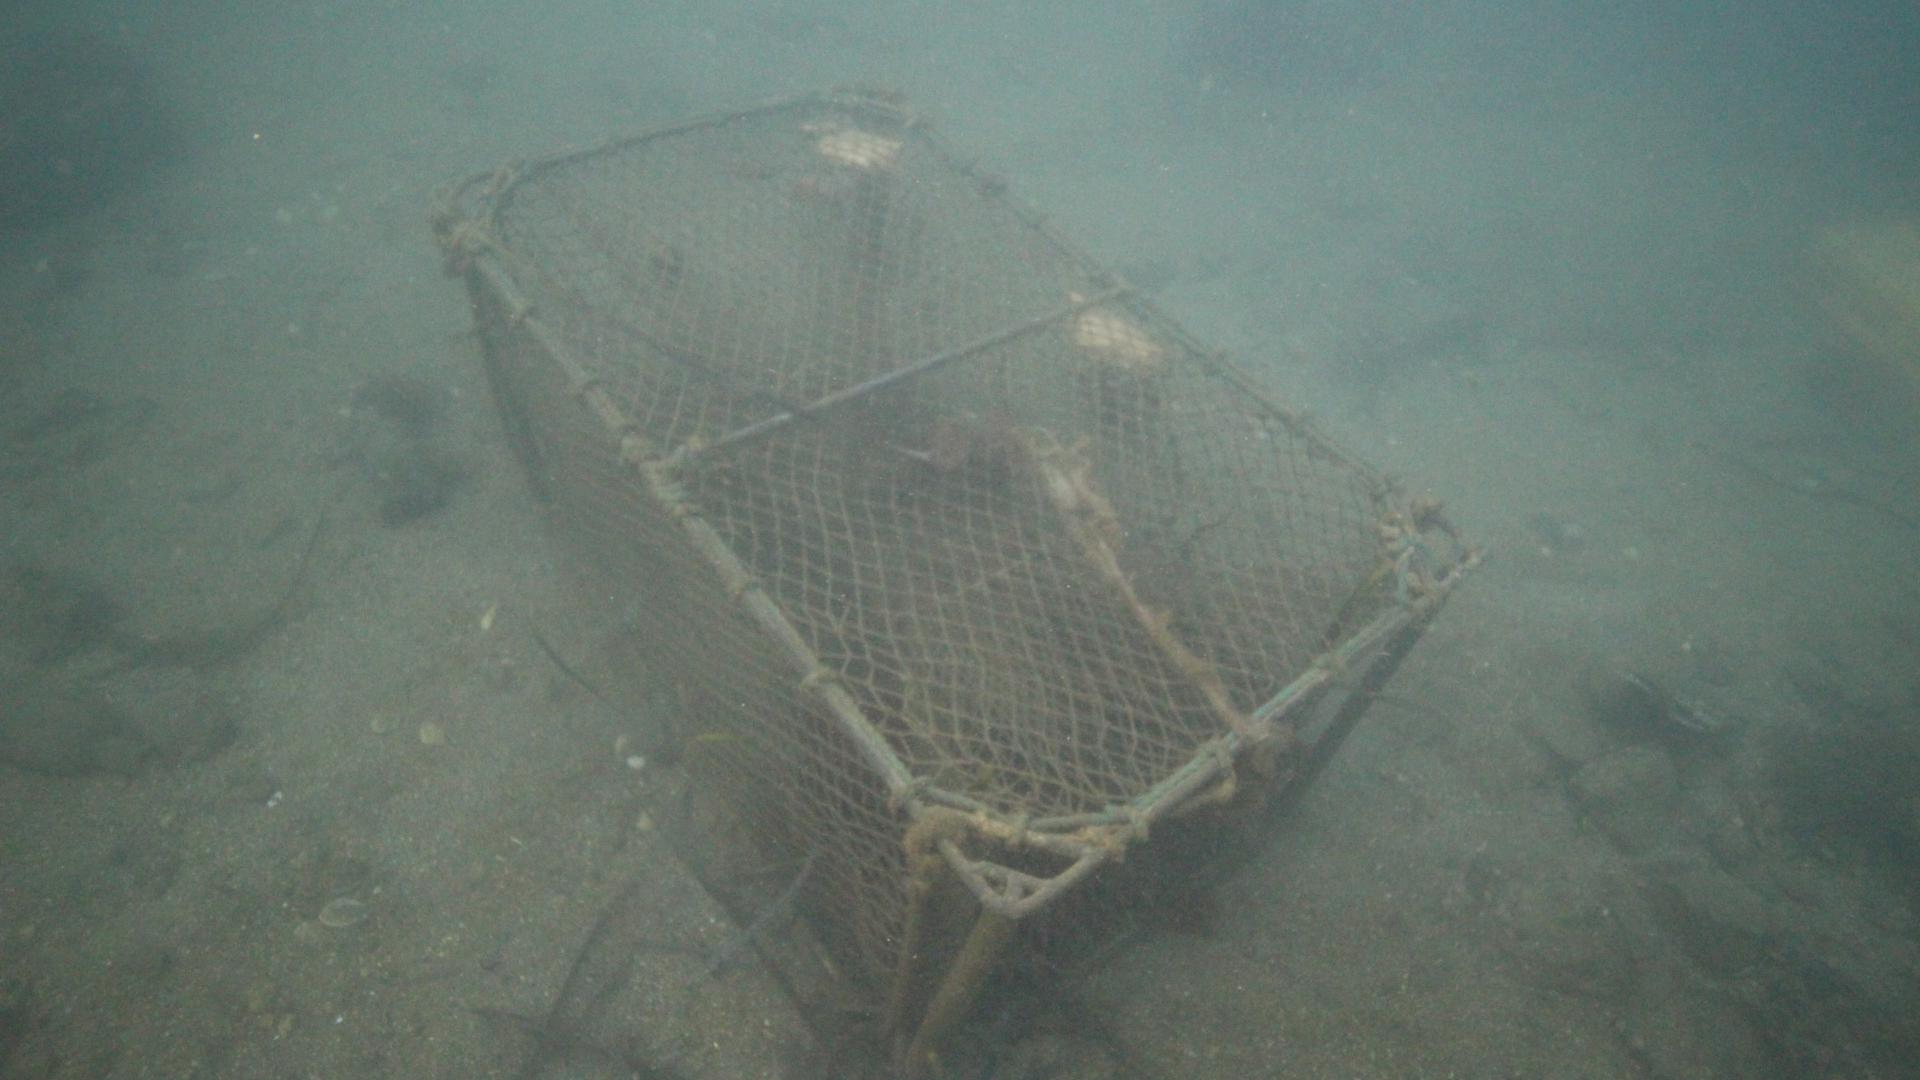rectangular fish trap: (427, 80, 1490, 1080)
